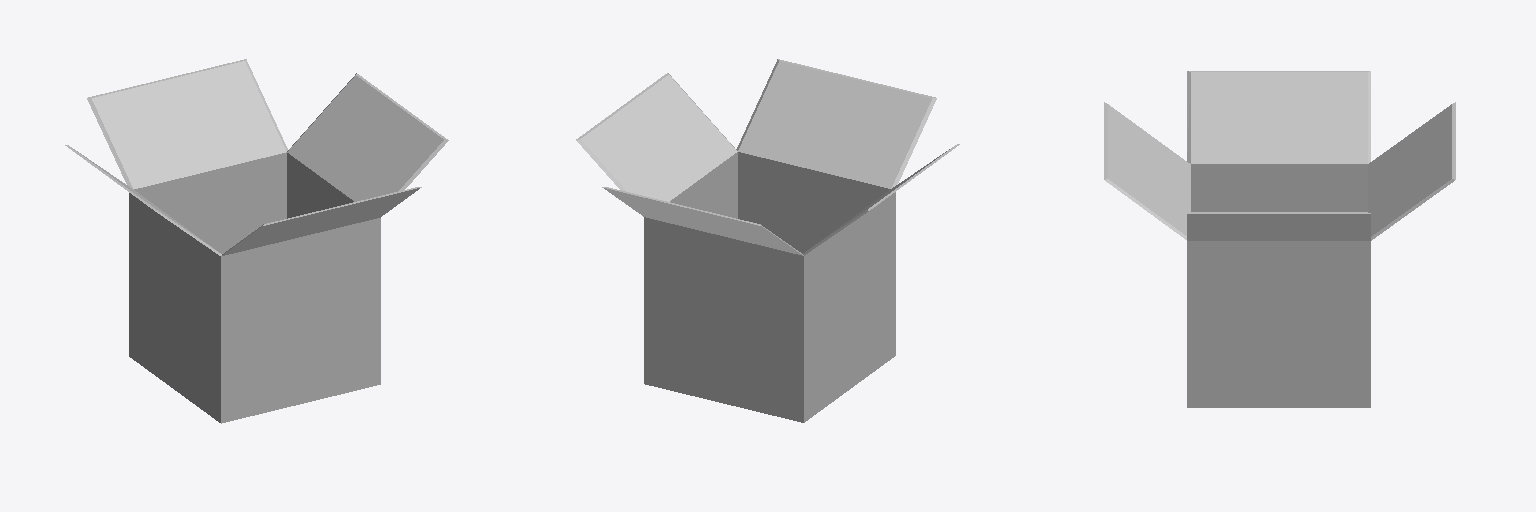
3 renders of one model, left to right at view 1: azimuth 30°, elevation 25°; view 2: azimuth 150°, elevation 25°; view 3: azimuth 270°, elevation 25°, orthographic.
Visible parts, largest first — view 1: pasted__pasted__pasted__carton_null_ pasted__pasted__group15 pas; view 2: pasted__pasted__pasted__carton_null_ pasted__pasted__group15 pas; view 3: pasted__pasted__pasted__carton_null_ pasted__pasted__group15 pas.
Part boxes in pixels (x1,y1,x2,y2): pasted__pasted__pasted__carton_null_ pasted__pasted__group15 pas: (65,59,448,423); pasted__pasted__pasted__carton_null_ pasted__pasted__group15 pas: (576,59,959,422); pasted__pasted__pasted__carton_null_ pasted__pasted__group15 pas: (1104,71,1455,407).
Bounding box in the file's own units: 10.08 × 7.48 × 10.46.